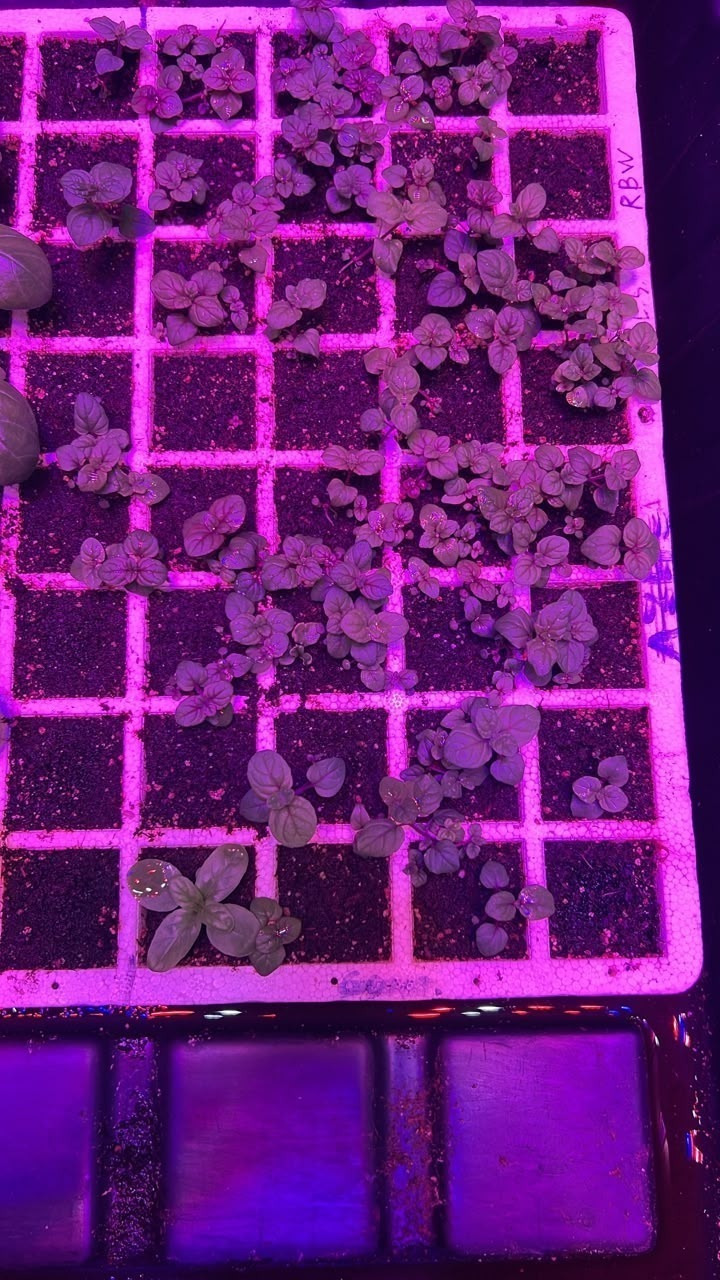Germinacao: (45, 381, 180, 516), (471, 579, 609, 705), (289, 273, 393, 384), (397, 273, 501, 384), (74, 722, 178, 833), (289, 722, 393, 833), (397, 722, 501, 833), (74, 49, 178, 159), (289, 49, 393, 159), (397, 49, 501, 159), (289, 161, 393, 271), (397, 161, 501, 271), (289, 386, 393, 496), (397, 386, 501, 496), (74, 498, 178, 608), (289, 498, 393, 608), (397, 498, 501, 608), (74, 610, 178, 720), (289, 610, 393, 720), (397, 610, 501, 720), (74, 835, 178, 945), (289, 835, 393, 945), (397, 835, 501, 945), (74, 947, 178, 1057), (289, 947, 393, 1057), (182, 273, 285, 384), (505, 273, 608, 384), (182, 722, 285, 833), (505, 722, 608, 833), (182, 49, 285, 159), (182, 161, 285, 271), (505, 161, 608, 271), (182, 386, 285, 496), (505, 386, 608, 496), (182, 498, 285, 608), (505, 498, 608, 608), (182, 610, 285, 720), (182, 835, 285, 945), (505, 835, 608, 945), (182, 947, 285, 1057), (505, 947, 608, 1057), (613, 722, 696, 833), (75, 273, 147, 384), (614, 498, 677, 608), (614, 386, 669, 496), (654, 835, 704, 945), (614, 273, 662, 384), (163, 1030, 280, 1070), (612, 950, 707, 997), (615, 161, 652, 271), (505, 105, 608, 142), (141, 273, 175, 384), (135, 162, 175, 251), (76, 164, 138, 210), (614, 678, 674, 716), (76, 211, 128, 252), (644, 612, 688, 656), (613, 604, 643, 663), (352, 1037, 369, 1073), (449, 1040, 499, 1052)
